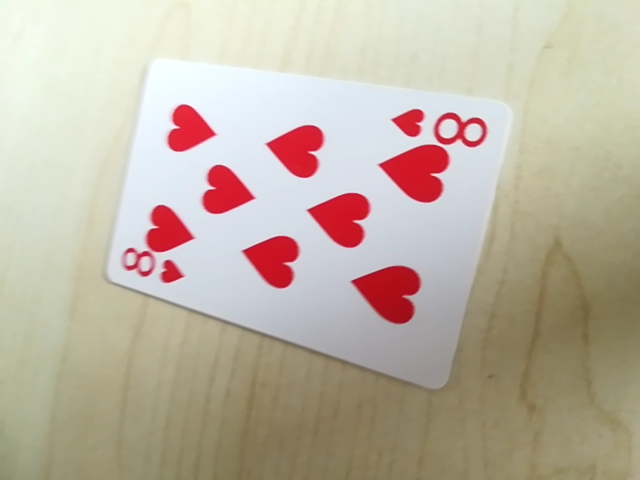hx 8: (388, 102, 494, 147), (117, 249, 187, 289)
